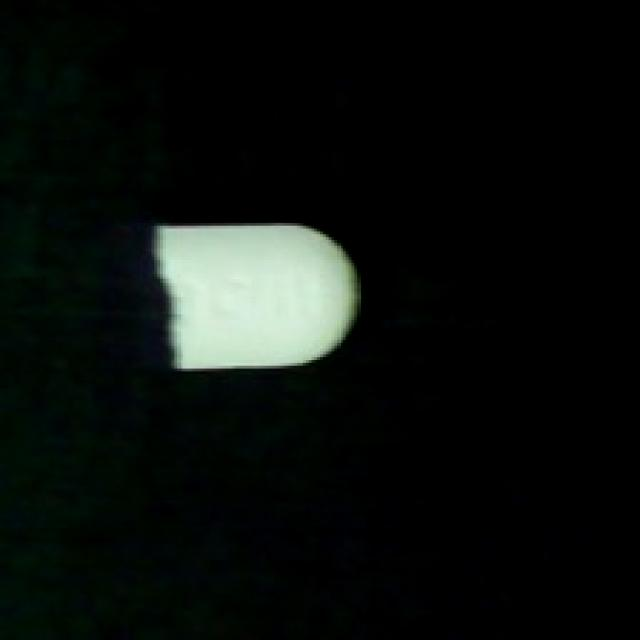defected: (146, 217, 363, 377)
